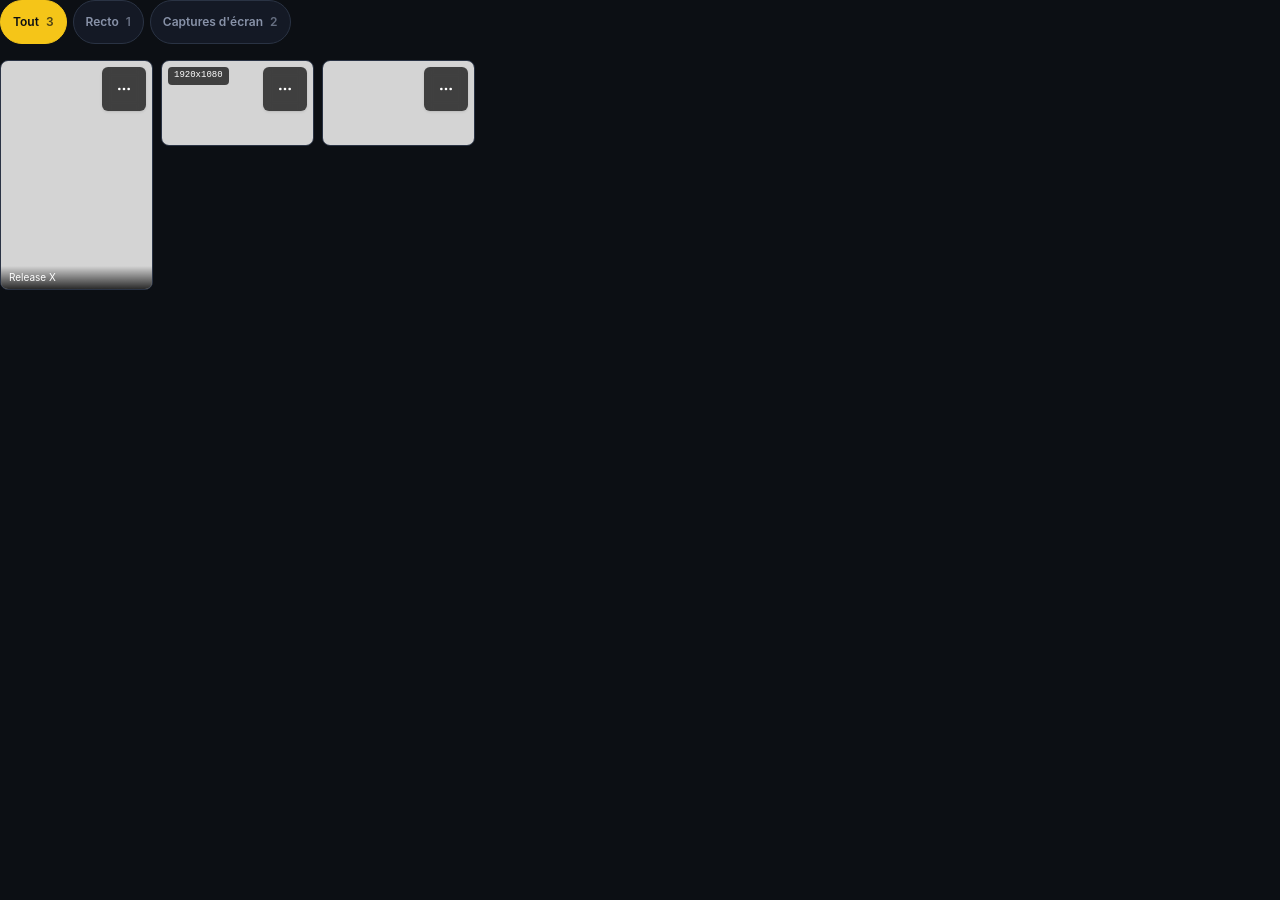
Test: MediaGallery › rotates the tile preview and exposes a reset entry plus a preview-only note
The image size is (1280, 900).
Click the 1st button named "Actions". click: click(124, 89)
box: top-left (102, 67), bottom-right (146, 111)
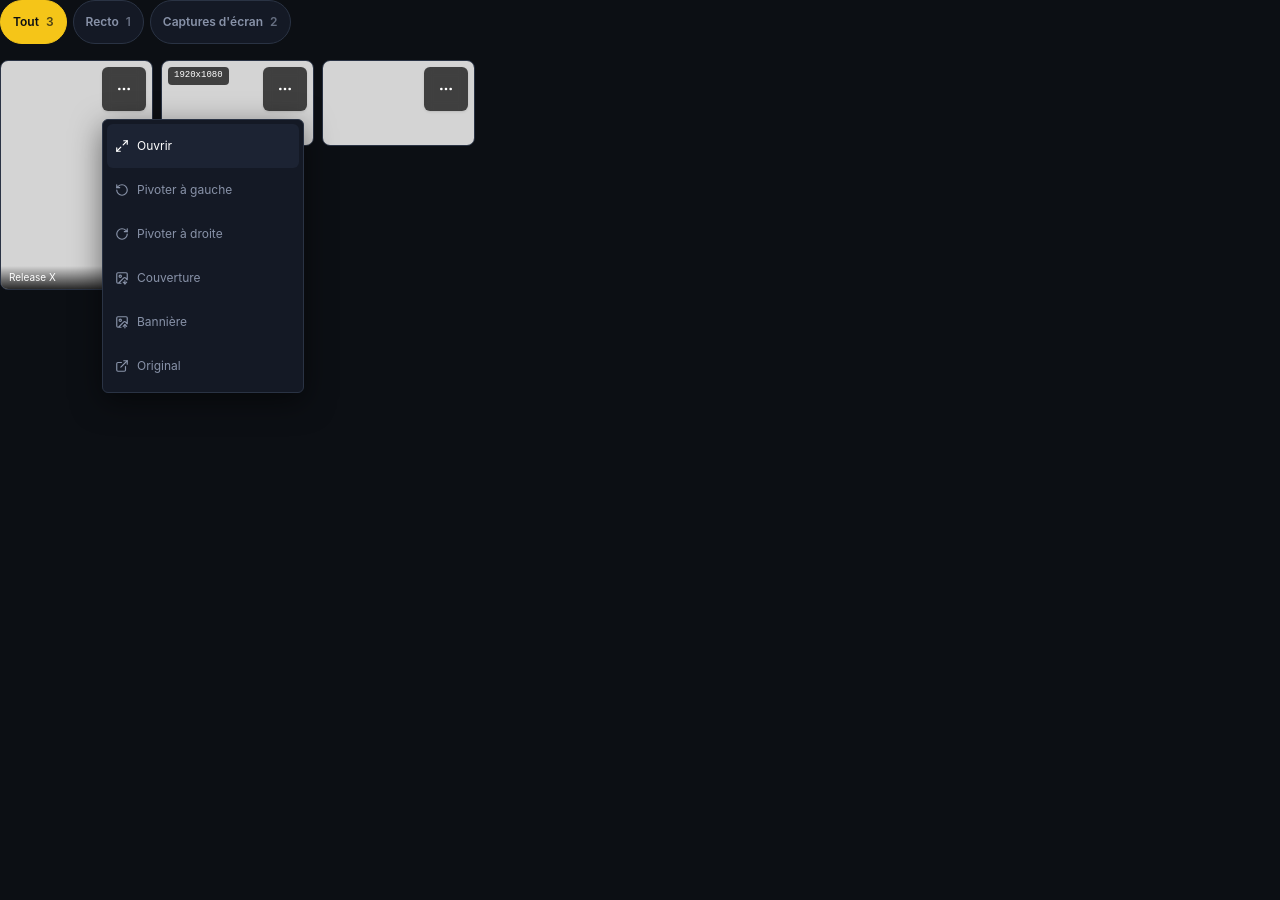
Expected: the menu item "Réinitialiser la rotation" is not shown
Expected: the menu item with aria-label "Définir comme couverture" is shown, top-left (107, 256), bottom-right (299, 300)
Click the menu item "Pivoter à droite". click: click(203, 234)
box: top-left (107, 212), bottom-right (299, 256)
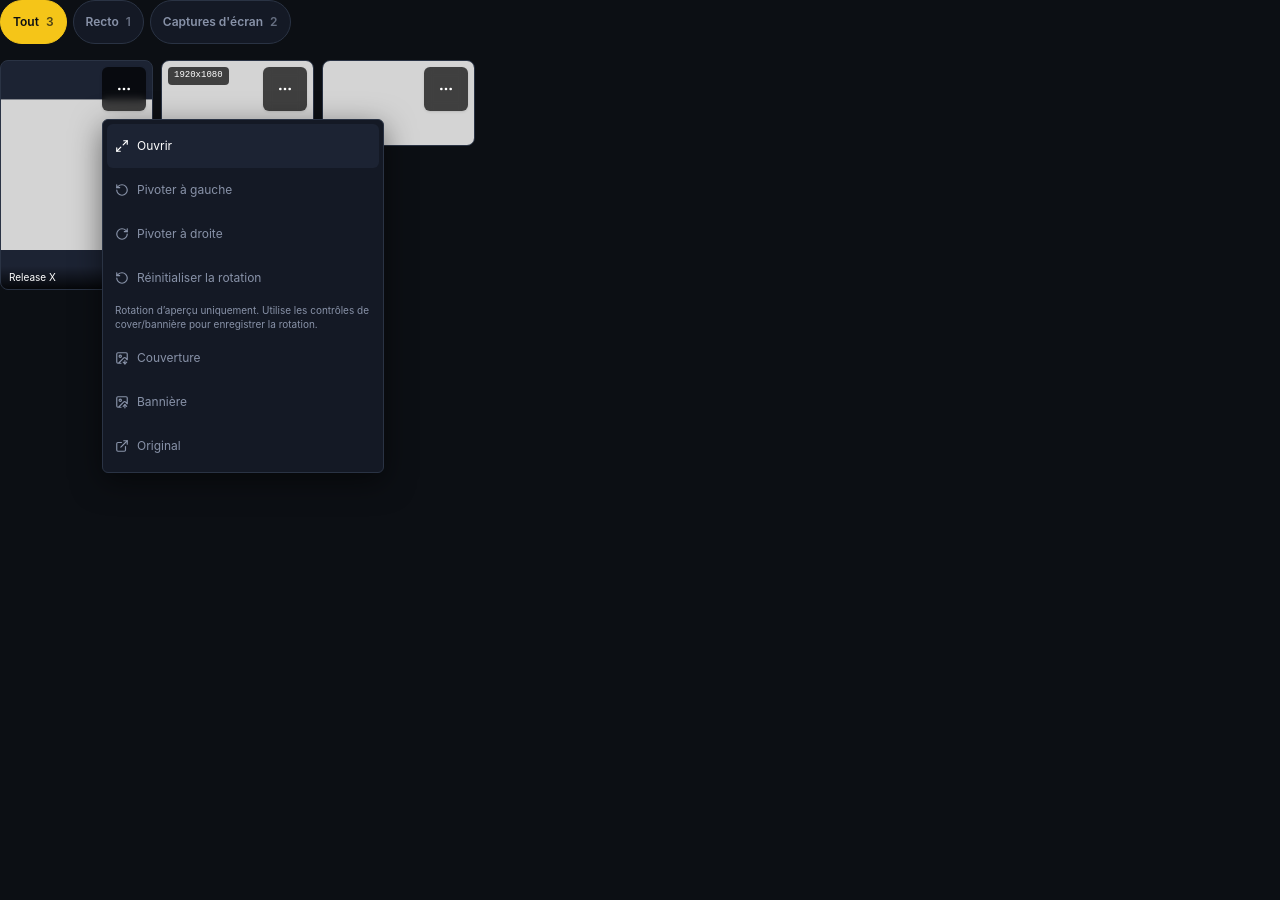
Expected: the menu item "Réinitialiser la rotation" is shown, top-left (107, 256), bottom-right (379, 300)
Expected: the text "Rotation d’aperçu uniquement. Utilise les contrôles de cover/bannière pour enregistrer la rotation." is shown, top-left (115, 304), bottom-right (369, 330)
